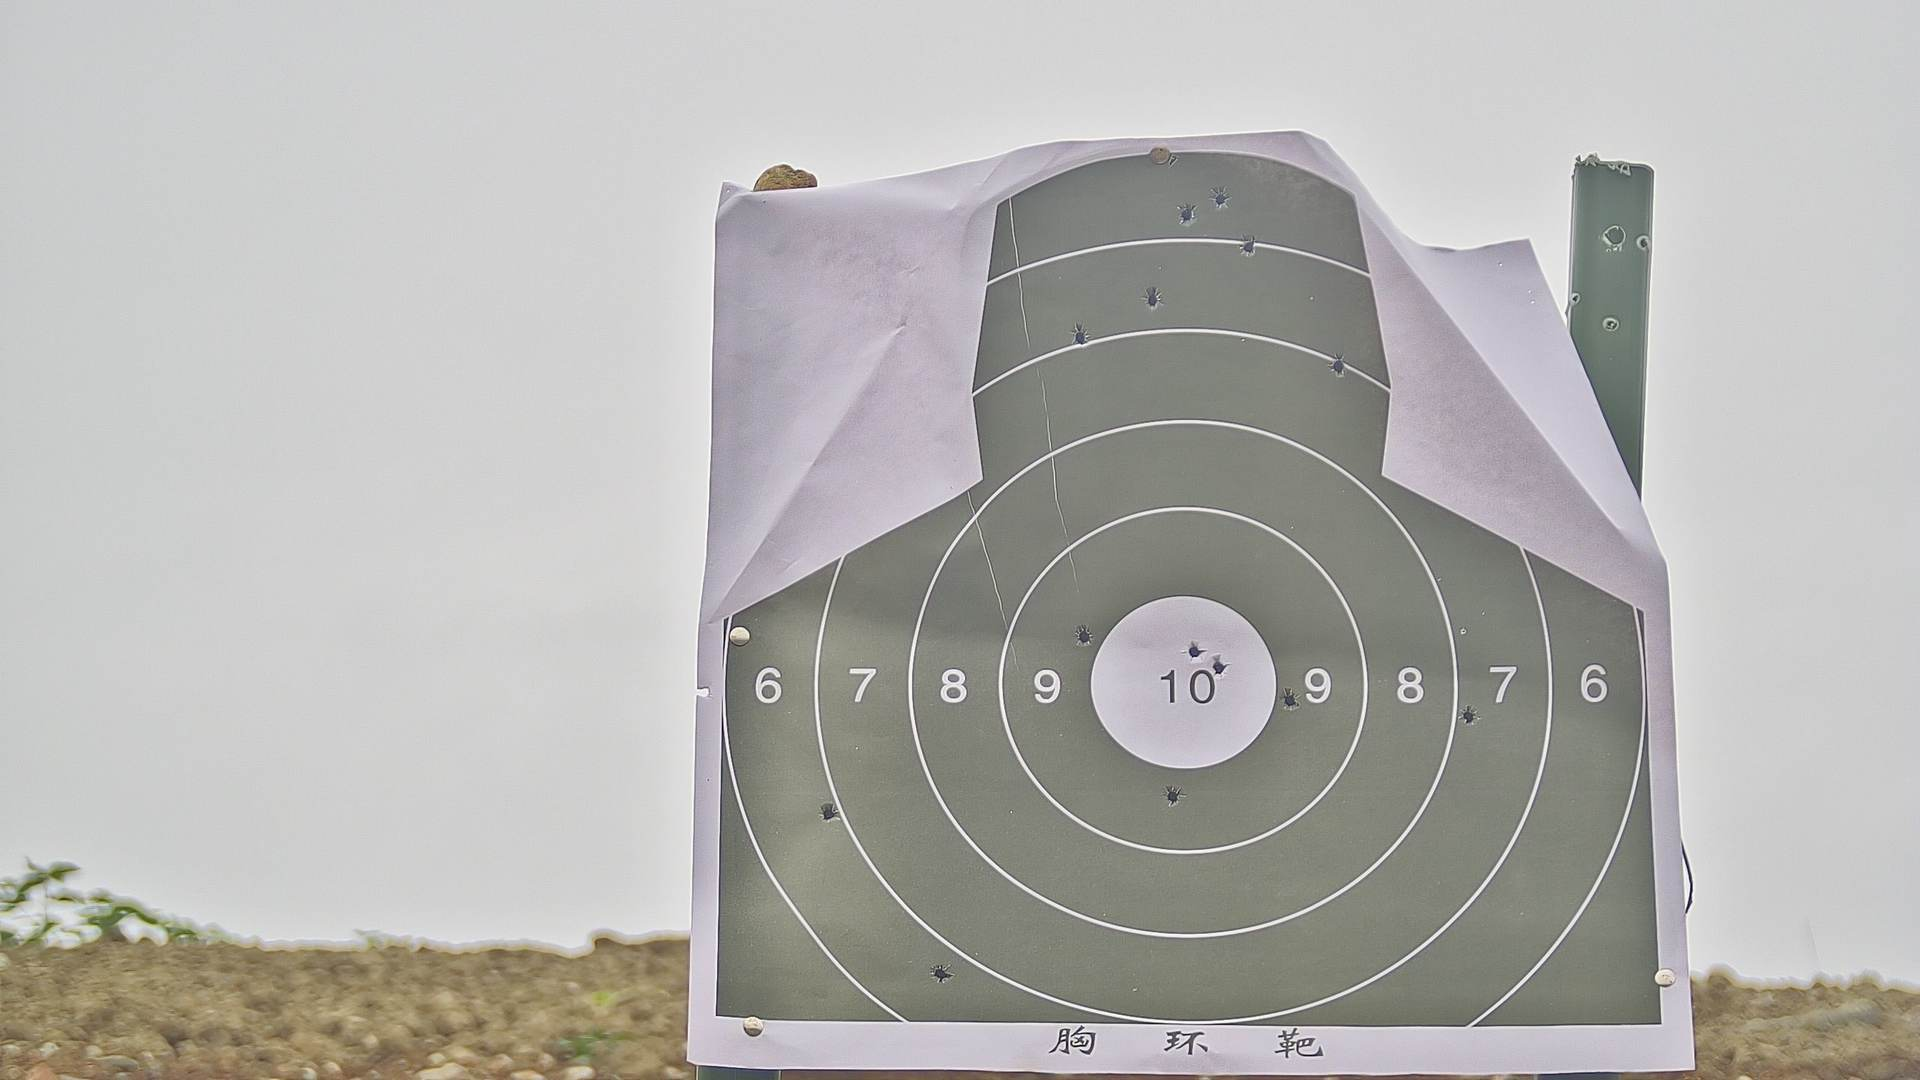hole: (1458, 705, 1477, 725), (1146, 287, 1163, 309), (1213, 189, 1228, 212), (1179, 206, 1195, 224), (1240, 237, 1255, 256), (1185, 640, 1203, 655), (822, 803, 836, 822), (1077, 626, 1092, 644), (1167, 786, 1179, 806), (1211, 659, 1225, 675), (1332, 357, 1344, 376), (934, 967, 947, 982), (1284, 692, 1298, 708), (1073, 328, 1084, 342)
target: (719, 156, 1663, 1038)
ten: (1088, 593, 1282, 771)
